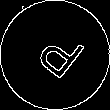P_SW: (25, 24, 85, 86)
